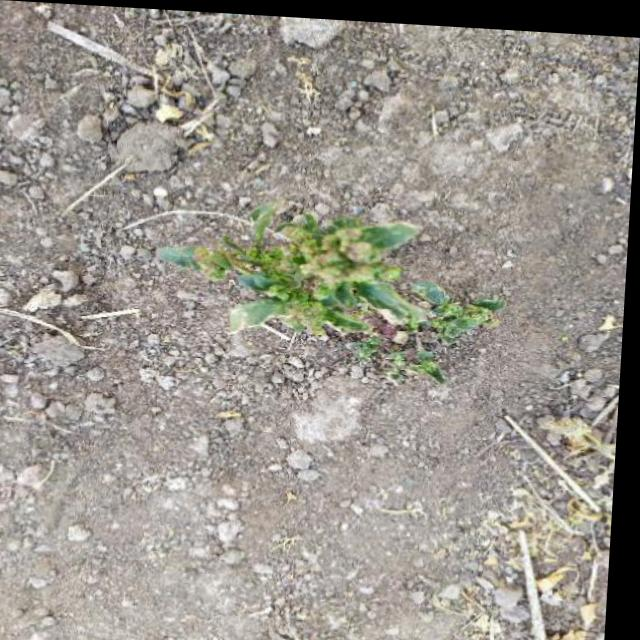weed: (218, 200, 497, 400)
